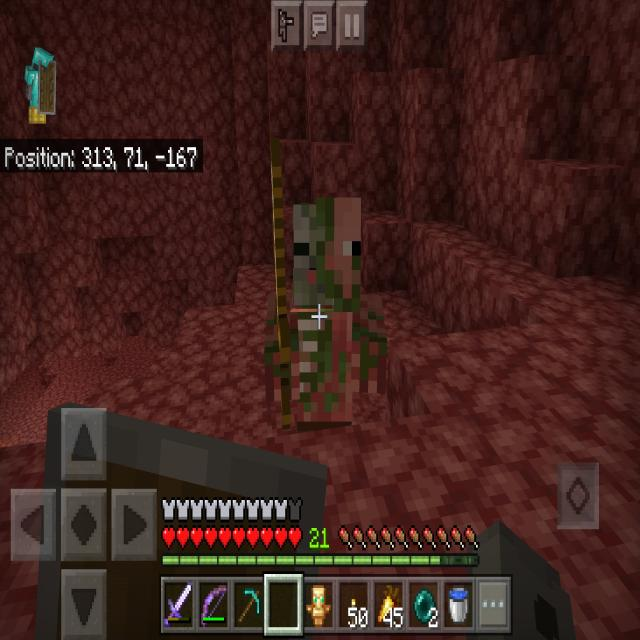Zombified Piglin: (266, 134, 387, 436)
